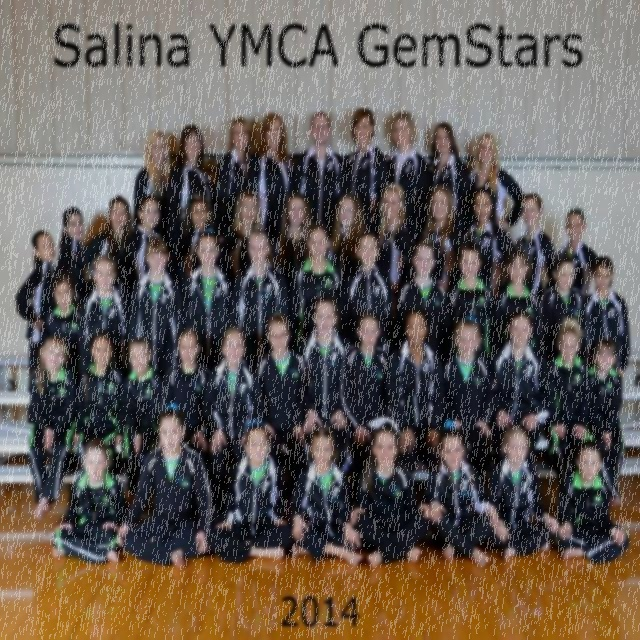pessoa: (29, 540, 631, 640), (116, 405, 214, 570), (200, 414, 298, 564), (350, 418, 432, 570), (337, 307, 397, 513), (419, 422, 501, 570), (286, 422, 366, 570), (480, 421, 560, 564), (24, 330, 82, 524), (47, 434, 132, 566), (255, 308, 312, 494), (488, 307, 552, 470), (386, 308, 446, 474), (554, 438, 630, 566), (66, 194, 143, 318), (299, 293, 352, 473), (225, 228, 289, 373), (126, 235, 186, 388), (544, 313, 590, 512), (444, 316, 494, 496), (202, 325, 256, 480), (15, 230, 58, 424), (244, 110, 298, 264), (182, 231, 238, 371), (456, 130, 526, 236), (162, 122, 213, 260), (585, 338, 626, 509), (73, 328, 128, 453), (396, 238, 448, 370), (443, 238, 498, 362), (117, 336, 164, 480), (291, 221, 344, 346), (293, 110, 348, 230), (536, 253, 592, 370), (384, 108, 432, 242), (582, 255, 631, 383), (160, 326, 210, 451), (38, 272, 88, 396), (343, 228, 393, 350), (464, 185, 516, 299), (80, 254, 128, 375), (172, 191, 230, 288), (344, 106, 388, 232), (212, 116, 255, 243), (426, 120, 469, 233), (276, 190, 310, 330), (514, 191, 558, 299), (496, 248, 540, 354), (418, 184, 459, 296), (132, 128, 176, 231), (218, 189, 263, 288), (554, 205, 600, 298), (374, 182, 412, 282), (327, 192, 368, 280), (131, 192, 163, 281), (53, 206, 86, 276)
